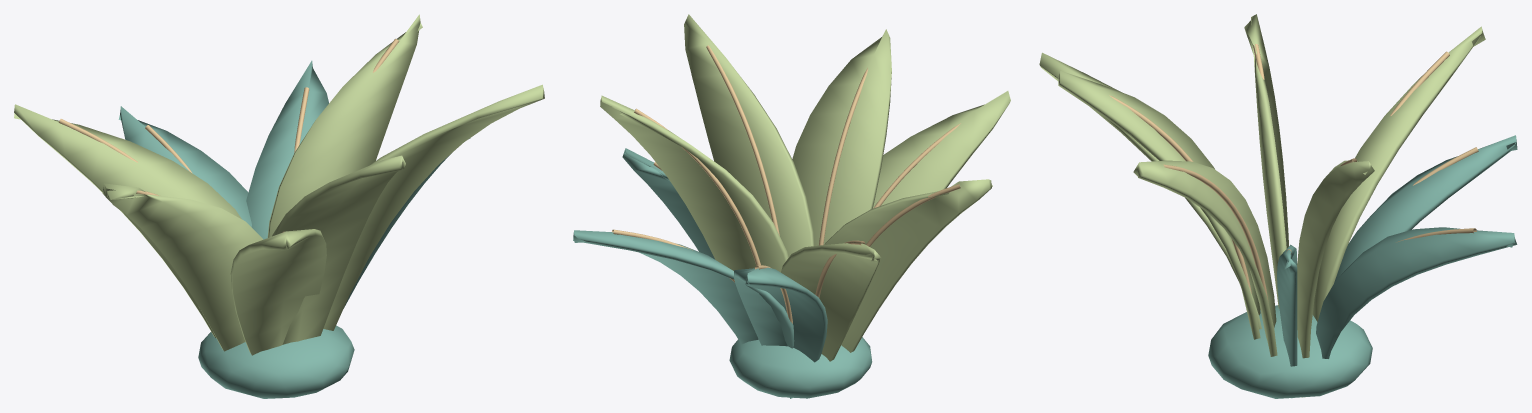
The model's file is bio_mist_leaf_06_far.glb.
The picture shows the model from 3 angles, left to right: view 1: azimuth 30°, elevation 25°; view 2: azimuth 150°, elevation 25°; view 3: azimuth 270°, elevation 25°; orthographic projection. The views are drawn at different scales.
Parts seen in each view (by area): view 1: Cupped condensate leaf.008, Cupped condensate leaf.004, Cupped condensate leaf.007, Cupped condensate leaf.002, Cupped condensate leaf.001, Root rosette, Cupped condensate leaf.005, Cupped condensate leaf.003, Cupped condensate leaf.006, Cupped condensate leaf; view 2: Cupped condensate leaf.002, Cupped condensate leaf.005, Cupped condensate leaf.008, Cupped condensate leaf.004, Cupped condensate leaf.007, Root rosette, Cupped condensate leaf.003, Cupped condensate leaf.001, Cupped condensate leaf.006, Cupped condensate leaf, Central leaf rib.005, Central leaf rib.002 (+3 smaller); view 3: Root rosette, Cupped condensate leaf.003, Cupped condensate leaf.001, Cupped condensate leaf.005, Cupped condensate leaf.002, Cupped condensate leaf.006, Cupped condensate leaf.008, Cupped condensate leaf.004, Cupped condensate leaf, Cupped condensate leaf.007, Central leaf rib.005, Central leaf rib.002.
Boxes of the visible parts, x1,y1,x2,y2 form: Cupped condensate leaf.008: (267, 14, 422, 237); Cupped condensate leaf.004: (102, 183, 263, 351); Cupped condensate leaf.007: (230, 229, 326, 355); Cupped condensate leaf.002: (272, 155, 405, 344); Cupped condensate leaf.001: (14, 104, 241, 337); Root rosette: (198, 325, 354, 398); Cupped condensate leaf.005: (323, 84, 544, 330); Cupped condensate leaf.003: (246, 60, 328, 239); Cupped condensate leaf.006: (118, 106, 251, 227); Cupped condensate leaf: (343, 138, 470, 308); Cupped condensate leaf.002: (792, 29, 891, 245); Cupped condensate leaf.005: (684, 14, 814, 257); Cupped condensate leaf.008: (600, 95, 788, 272); Cupped condensate leaf.004: (824, 179, 992, 352); Cupped condensate leaf.007: (873, 91, 1010, 208); Root rosette: (729, 337, 872, 398); Cupped condensate leaf.003: (573, 230, 794, 348); Cupped condensate leaf.001: (781, 243, 881, 361); Cupped condensate leaf.006: (734, 267, 827, 398); Cupped condensate leaf: (622, 148, 714, 259); Central leaf rib.005: (706, 45, 779, 235); Central leaf rib.002: (819, 67, 867, 245); Root rosette: (1208, 305, 1372, 398); Cupped condensate leaf.003: (1316, 227, 1517, 358); Cupped condensate leaf.001: (1312, 26, 1485, 321); Cupped condensate leaf.005: (1133, 160, 1277, 356); Cupped condensate leaf.002: (1058, 71, 1260, 339); Cupped condensate leaf.006: (1334, 135, 1517, 282); Cupped condensate leaf.008: (1297, 160, 1374, 397); Cupped condensate leaf.004: (1244, 14, 1288, 308); Cupped condensate leaf: (1277, 244, 1297, 398); Cupped condensate leaf.007: (1039, 52, 1261, 329); Central leaf rib.005: (1163, 164, 1268, 302); Central leaf rib.002: (1109, 95, 1251, 293).
Bounding box in the file's own units: 1.72 × 1.3 × 1.74.
